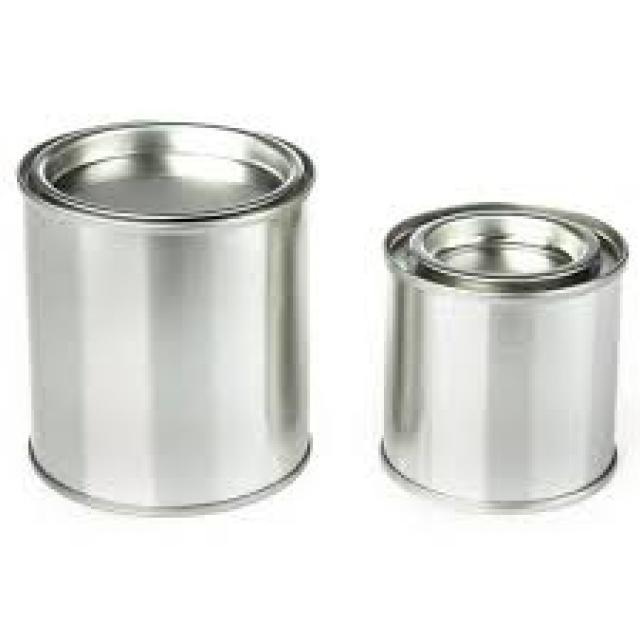recyclable: (12, 118, 318, 516), (376, 200, 632, 516)
